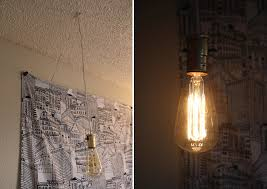bulb: (166, 53, 237, 156), (82, 139, 109, 180)
